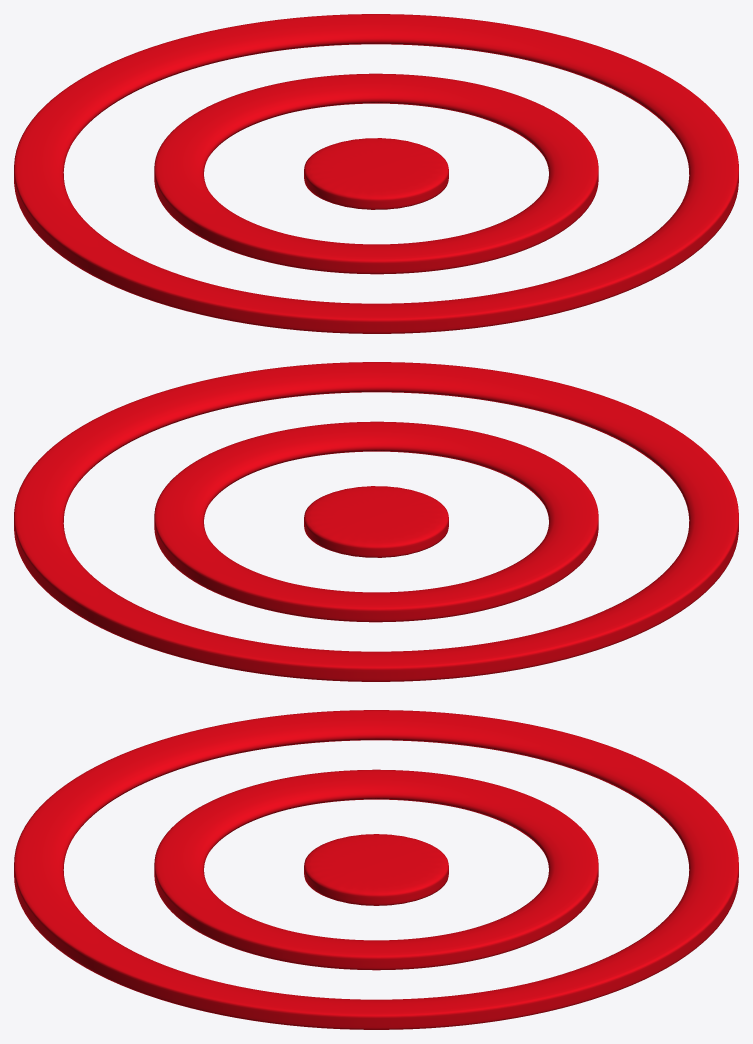
File: target.fbx
3 views of the same model, one above another, from view 1: azimuth 30°, elevation 25°; view 2: azimuth 150°, elevation 25°; view 3: azimuth 270°, elevation 25° (orthographic).
Visible parts, largest first — view 1: Cylinder; view 2: Cylinder; view 3: Cylinder.
Boxes of the visible parts, x1,y1,x2,y2 form: Cylinder: (14,14,738,333); Cylinder: (14,362,738,681); Cylinder: (14,710,738,1029).
Size of the model in its own units: 99.36 by 2.36 by 99.36.
